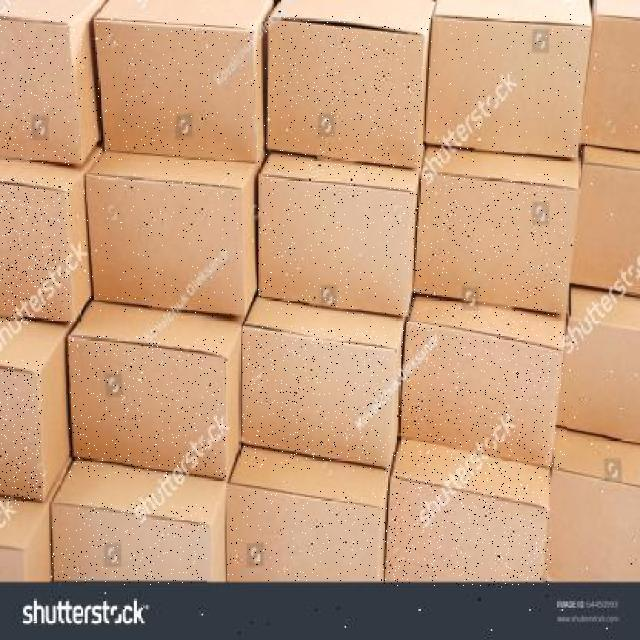BoxFace: (264, 15, 424, 171), (399, 322, 567, 469), (91, 20, 260, 166), (426, 14, 588, 162), (84, 174, 244, 318), (258, 170, 414, 315), (384, 452, 552, 586), (68, 336, 226, 478), (414, 174, 566, 318), (242, 326, 390, 471), (228, 490, 388, 581), (50, 504, 207, 586), (0, 11, 82, 166), (0, 178, 72, 324), (0, 360, 43, 505)
